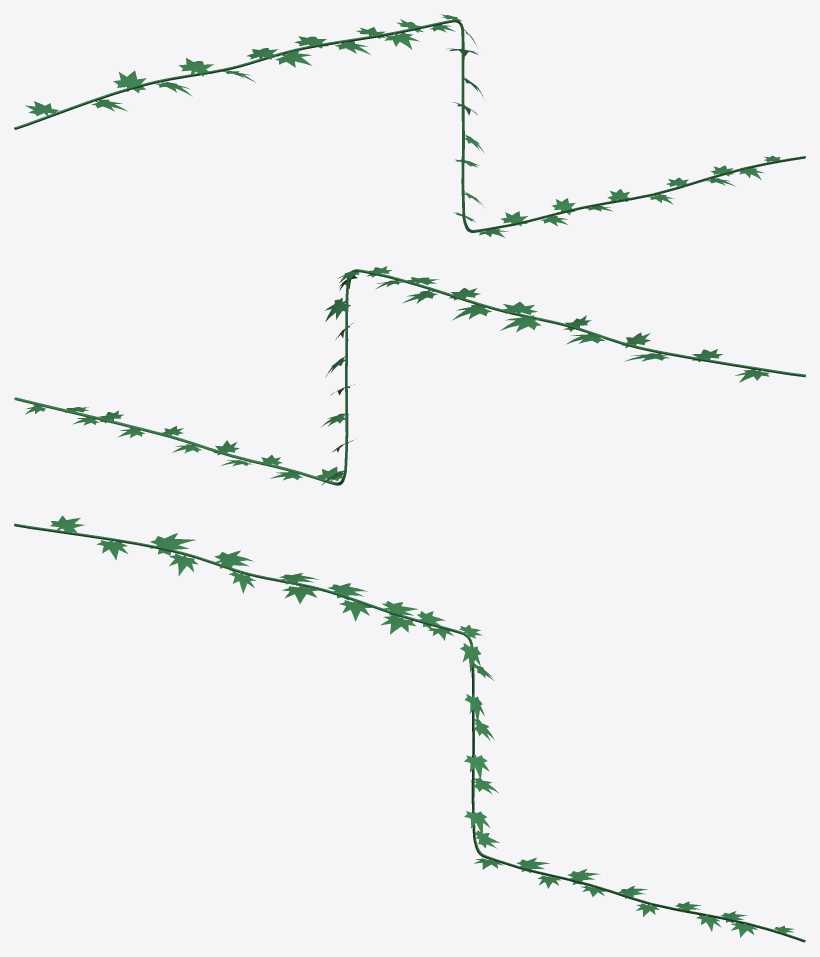
The model's file is vine_A_alangium_mudular.fbx.
3 views of the same model, one above another, from view 1: azimuth 30°, elevation 25°; view 2: azimuth 150°, elevation 25°; view 3: azimuth 330°, elevation 25° (orthographic).
Parts seen in each view (by area): view 1: vine_A_scanden_modular_root_A, vine_A_scanden_modular_root_E1, vine_A_scanden_modular_root_C2; view 2: vine_A_scanden_modular_root_A, vine_A_scanden_modular_root_E1, vine_A_scanden_modular_root_C2; view 3: vine_A_scanden_modular_root_A, vine_A_scanden_modular_root_E1.
Boxes of the visible parts, <box> form: vine_A_scanden_modular_root_A: <box>14,20,452,129</box>; vine_A_scanden_modular_root_E1: <box>480,156,805,231</box>; vine_A_scanden_modular_root_C2: <box>461,33,465,217</box>; vine_A_scanden_modular_root_A: <box>359,269,805,377</box>; vine_A_scanden_modular_root_E1: <box>14,397,329,483</box>; vine_A_scanden_modular_root_C2: <box>344,283,348,470</box>; vine_A_scanden_modular_root_A: <box>14,523,460,633</box>; vine_A_scanden_modular_root_E1: <box>490,857,805,942</box>.
Size of the model in its own units: 667 by 182 by 71.28.
